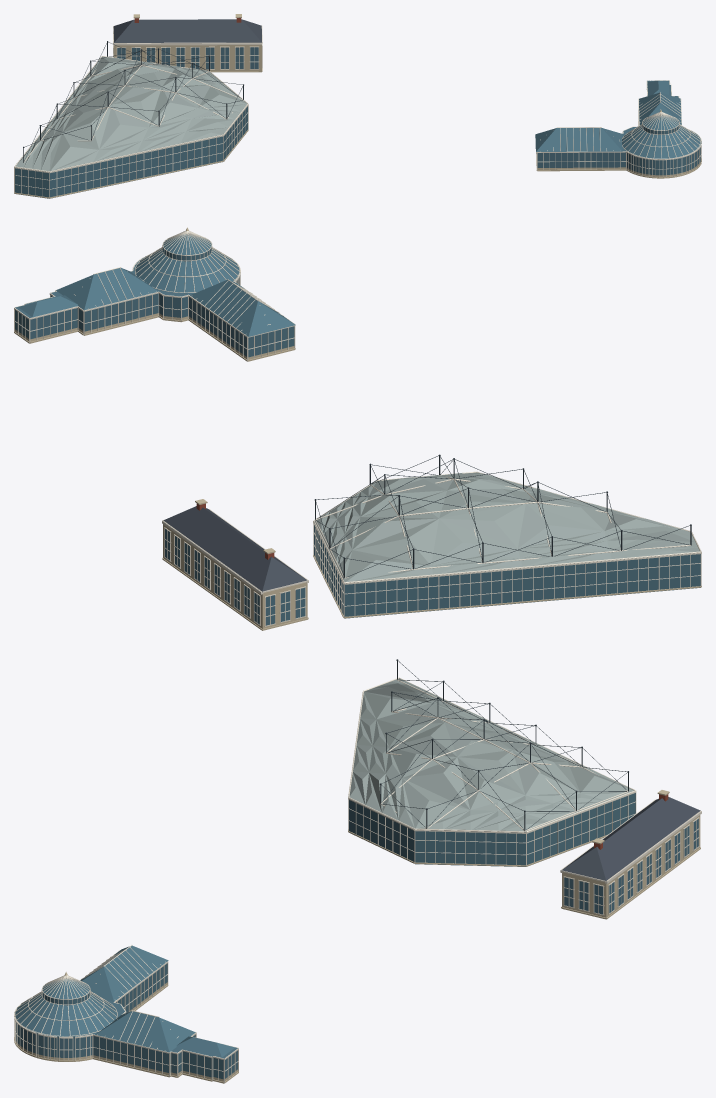
The model's file is hortus-greenhouses.glb.
The picture shows the model from 3 angles, top to bottom: view 1: azimuth 30°, elevation 25°; view 2: azimuth 150°, elevation 25°; view 3: azimuth 270°, elevation 25°; orthographic projection. The views are drawn at different scales.
Parts seen in each view (by area): view 1: hortus-greenhouses; view 2: hortus-greenhouses; view 3: hortus-greenhouses.
Boxes of the visible parts, x1,y1,x2,y2 form: hortus-greenhouses: (14, 14, 701, 198); hortus-greenhouses: (14, 227, 701, 630); hortus-greenhouses: (14, 659, 701, 1083).
Size of the model in its own units: 133 by 14.08 by 104.
